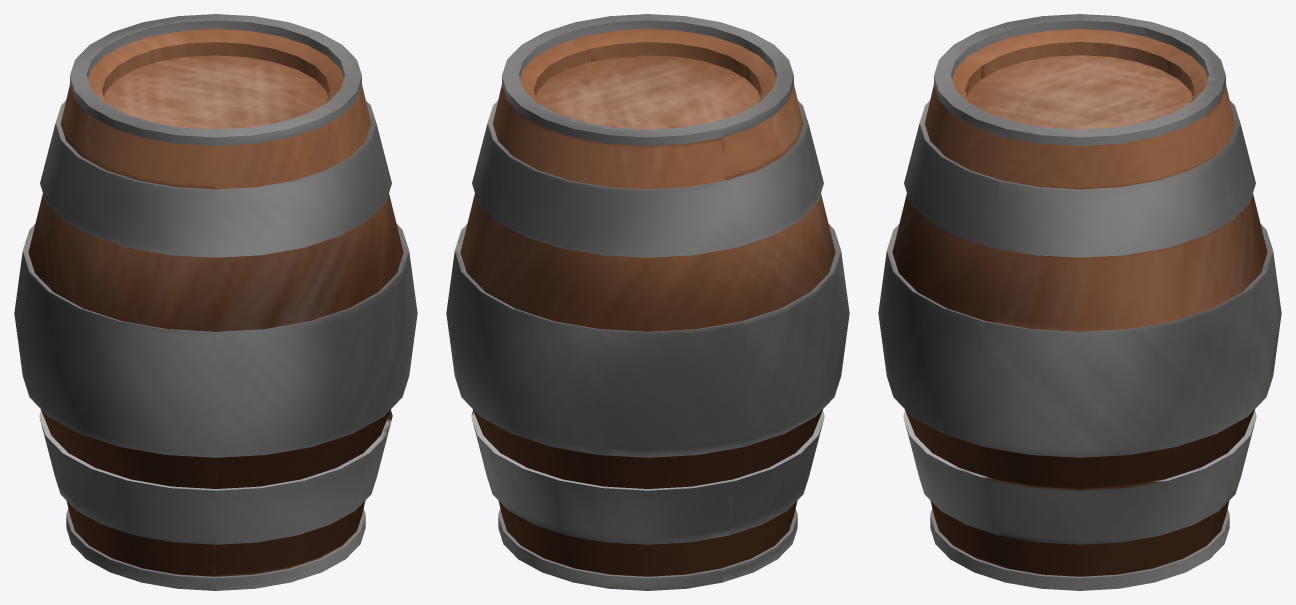
The model's file is Barrel.fbx.
3 views of the same model, side by side, from view 1: azimuth 30°, elevation 25°; view 2: azimuth 150°, elevation 25°; view 3: azimuth 270°, elevation 25° (orthographic).
Parts seen in each view (by area): view 1: Barrel; view 2: Barrel; view 3: Barrel.
Part boxes in pixels (bbox=[...]): Barrel: bbox=[14, 14, 417, 590]; Barrel: bbox=[446, 14, 849, 590]; Barrel: bbox=[878, 14, 1281, 590].
Bounding box in the file's own units: 170 × 210 × 170.
